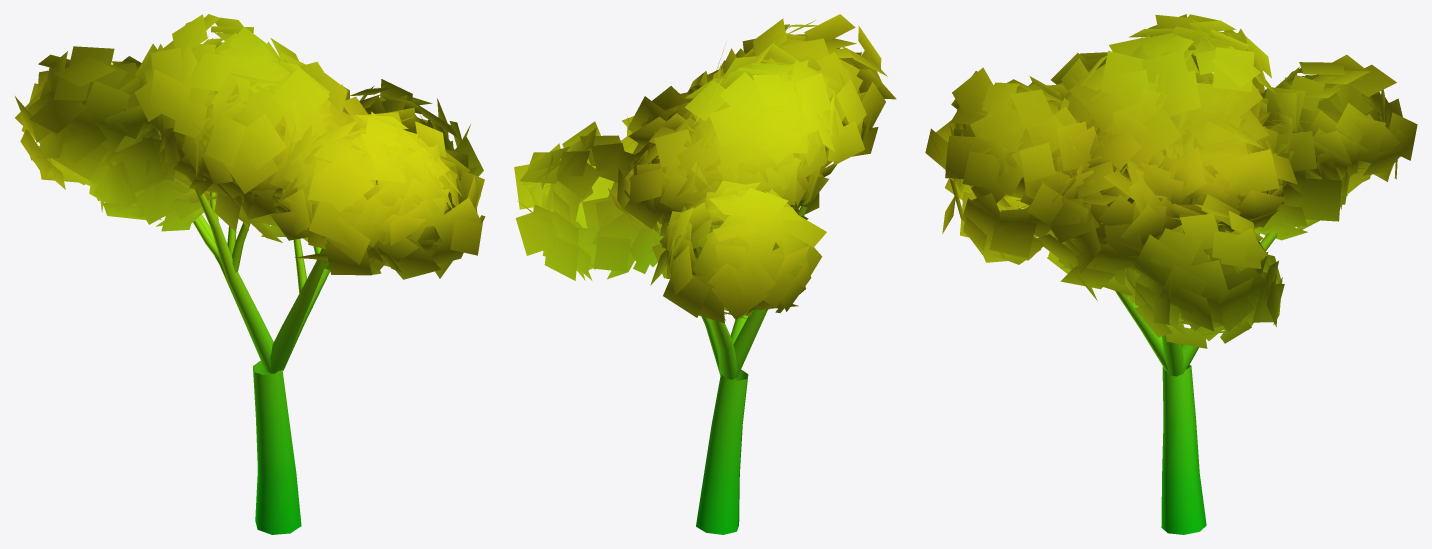
File: keyaki_b.glb
3 views of the same model, side by side, from view 1: azimuth 30°, elevation 25°; view 2: azimuth 150°, elevation 25°; view 3: azimuth 270°, elevation 25° (orthographic). The views are drawn at different scales.
Visible parts, largest first — view 1: keyaki_b; view 2: keyaki_b; view 3: keyaki_b.
Part boxes in pixels (x1=…): keyaki_b: x1=15, y1=14, x2=485, y2=534; keyaki_b: x1=514, y1=14, x2=896, y2=534; keyaki_b: x1=925, y1=14, x2=1417, y2=534.
Size of the model in its own units: 6.61 by 8.46 by 7.83.
